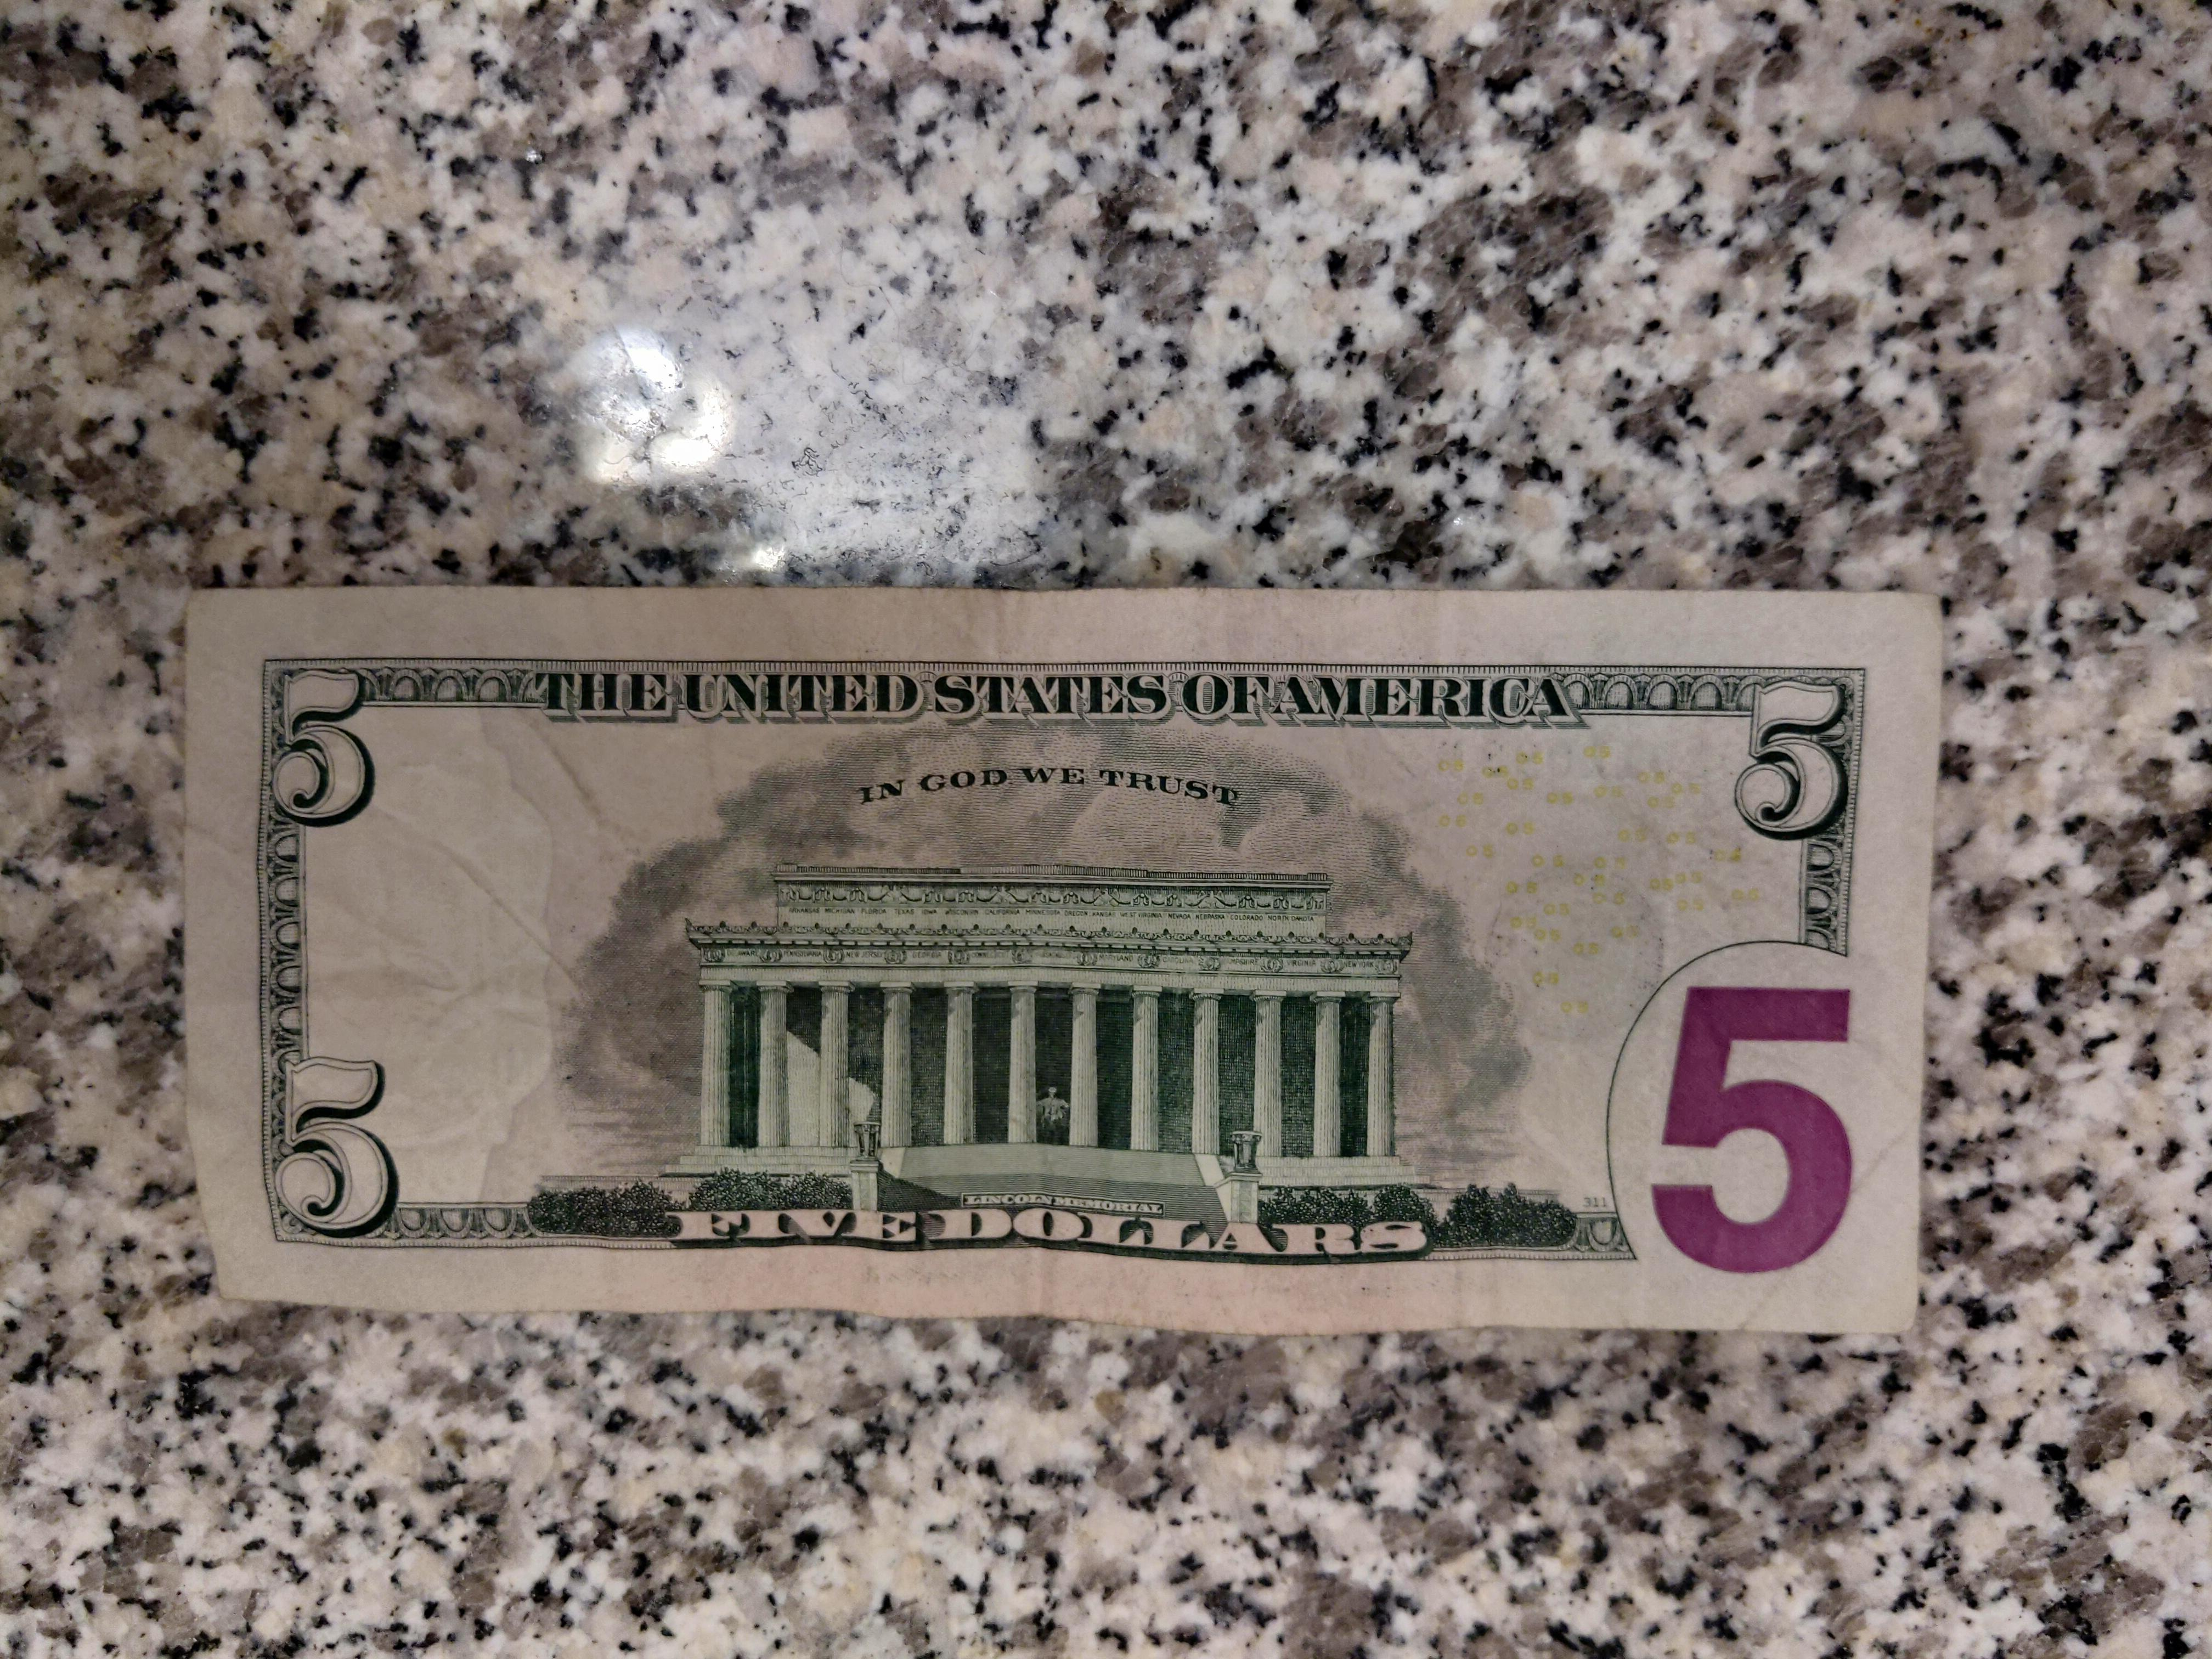FiveBill: (174, 582, 1944, 1340)
